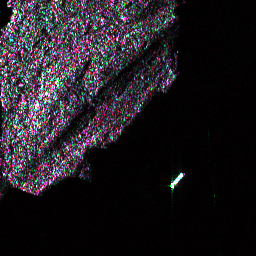ship: (168, 169, 185, 190)
